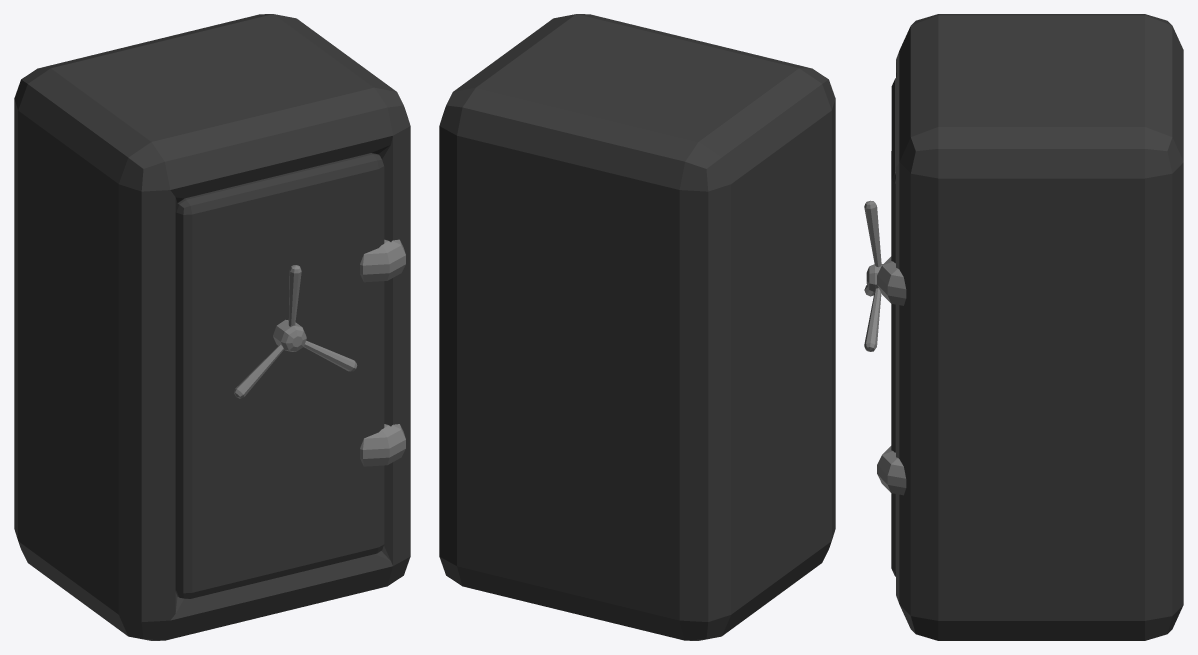
File: Safe.fbx
3 views of the same model, side by side, from view 1: azimuth 30°, elevation 25°; view 2: azimuth 150°, elevation 25°; view 3: azimuth 270°, elevation 25° (orthographic). The views are drawn at different scales.
Visible parts, largest first — view 1: Safe, SafeDoor; view 2: Safe; view 3: Safe, SafeDoor.
Boxes of the visible parts, bbox=[...] form: Safe: bbox=[14, 14, 410, 640]; SafeDoor: bbox=[175, 153, 405, 598]; Safe: bbox=[439, 14, 835, 640]; Safe: bbox=[896, 14, 1183, 640]; SafeDoor: bbox=[864, 77, 906, 576].
Size of the model in its own units: 0.6623 by 1.1 by 0.6194.
Materials: 1 (1 with a texture image).
